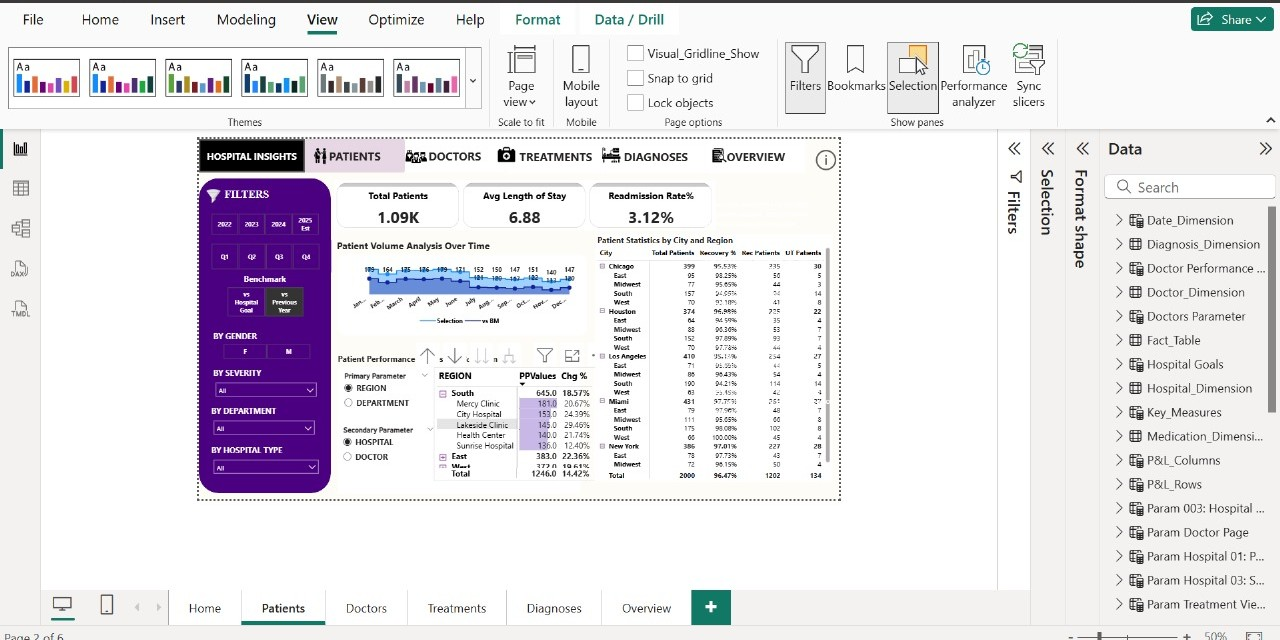

What the dashboard file says about the page in this screenshot:
{"tool":"powerbi","page":{"name":"Patients","canvas":[1280,720],"ordinal":1},"visuals":[{"type":"shape","box":[982,42,298,656.8],"z":0,"group":"g3"},{"type":"shape","box":[0,78.9,264,630],"z":0,"group":"g2"},{"type":"image","box":[10,94.9,38.3,40],"z":0,"group":"g1"},{"type":"shape","title":"Patient Performance by Hospital & Region","box":[277.2,428,484.2,280.7],"z":0},{"type":"actionButton","box":[1208.6,48.4,67.1,48.3],"z":1000,"group":"g3"},{"type":"group","id":"g1","title":"Group 2","box":[10,94.9,146,40],"z":1000,"group":"g2"},{"type":"textbox","title":"FILTERS","box":[46.7,98.2,110,31.7],"z":1000,"group":"g1"},{"type":"shape","title":"Patient Volume Analysis Over Time","box":[276.8,200.4,501,194.1],"z":1000},{"type":"actionButton","box":[0,0,212,66.7],"z":2000},{"type":"slicer","fields":{"Values":["Date_Dimension.Year_Desc"]},"box":[0,142.2,263.1,52.6],"z":2000,"group":"g2"},{"type":"actionButton","title":"Home","box":[212.3,0,200,66.7],"z":3000},{"type":"actionButton","title":"Home","box":[412.3,0,200,66.7],"z":4000},{"type":"actionButton","title":"Home","box":[613.2,0,200,67.9],"z":5000},{"type":"actionButton","title":"Home","box":[813.2,0,200,67.9],"z":6000},{"type":"actionButton","title":"Home","box":[1013.2,0,200,67.9],"z":7000},{"type":"actionButton","box":[1227.2,14.2,52.8,54.9],"z":8000},{"type":"image","box":[1013.2,12.7,54.1,39.8],"z":9000},{"type":"image","box":[400,7.5,69.8,52.8],"z":10000},{"type":"image","box":[583,7.5,62.3,45.3],"z":11000},{"type":"image","box":[792.5,7.5,66,47.2],"z":12000},{"type":"image","box":[211.6,11.1,62,42.9],"z":13000},{"type":"group","id":"g2","title":"Group 3","box":[0,78.9,264,630],"z":14000},{"type":"slicer","fields":{"Values":["Date_Dimension.Quarter"]},"box":[0,201.7,264.9,64.9],"z":16000},{"type":"slicer","title":"BY HOSPITAL TYPE","fields":{"Values":["hospital_dimension_2000.Type"]},"box":[20.7,609.2,229,73.2],"z":17000},{"type":"slicer","title":"BY GENDER","fields":{"Values":["Patient_Dimension.Gender"]},"box":[23.9,381.7,222.7,63.6],"z":18000},{"type":"slicer","title":"BY SEVERITY","fields":{"Values":["Diagnosis_dimension_2000.Severity"]},"box":[23.9,456.5,221.1,63.6],"z":19000},{"type":"slicer","title":"BY DEPARTMENT","fields":{"Values":["doctor_dimension_2000.Department"]},"box":[20.7,531.3,221.1,63.6],"z":20000},{"type":"cardVisual","fields":{"Data":["Key_Measures.Total Patients (BM)","Key_Measures.Avg Length of Stay (BM)","Key_Measures.Readmission Rate (BM)"]},"box":[270.4,81.1,763.5,100.2],"z":21000},{"type":"areaChart","title":"Hospital Revenue Over Time","fields":{"Category":["Date_Dimension.Date.Variation.Date Hierarchy.Month"],"Y":["Key_Measures.Total Patients","Key_Measures.Total Patients (BM)"]},"box":[287.9,241.8,472.4,140],"z":22000},{"type":"slicer","fields":{"Values":["Primary Parameter.Primary Parameter"]},"box":[277.2,459.6,193,103.5],"z":23000},{"type":"slicer","fields":{"Values":["Secondary Parameter.Secondary Parameter"]},"box":[276.5,568.4,206.1,104.8],"z":24000},{"type":"pivotTable","fields":{"Rows":["Hospital_Dimension.Region","Hospital_Dimension.Name"],"Values":["Key_Measures.Patient Performance Values","Key_Measures.Patient Performance Chg %"]},"box":[470.6,456.8,355.5,226.7],"z":25000},{"type":"slicer","title":"Benchmark","fields":{"Values":["Set_BM.Benchmark"]},"box":[31.8,267.2,200.4,92.3],"z":26000},{"type":"pivotTable","title":"Patient Statistics by City and Region","fields":{"Rows":["Patient_Dimension.City","Patient_Dimension.Region"],"Values":["CountNonNull(Fact_Table.Total Patients)","Key_Measures.Recovery Rate","Key_Measures.Recovered Patients","Key_Measures.Under Treatment Patients"]},"box":[792.1,189.3,475.6,494.7],"z":27000},{"type":"group","id":"g3","title":"Info_panel(patient)","box":[982,42,298,656.8],"z":28000},{"type":"textbox","box":[994.6,113.3,258.1,75.5],"z":29000},{"type":"textbox","box":[998.8,201.4,258.1,73.4],"z":30000},{"type":"textbox","box":[998.8,291.7,253.9,90.2],"z":31000},{"type":"textbox","box":[1000.9,394.5,262.3,75.5],"z":32000},{"type":"textbox","box":[1000.9,488.9,274.9,73.4],"z":33000}]}

Visuals, with their boxes on the page's 1280x720 design canvas (x1, y1, x2, y2). These are canvas units, not pixel positions in the 1280x640 screenshot, which may show the page scaled, cropped or inside an application window:
shape: BBox(982, 42, 1280, 699)
shape: BBox(0, 79, 264, 709)
image: BBox(10, 95, 48, 135)
"Patient Performance by Hospital & Region" shape: BBox(277, 428, 761, 709)
actionButton: BBox(1209, 48, 1276, 97)
"Group 2" group: BBox(10, 95, 156, 135)
"FILTERS" textbox: BBox(47, 98, 157, 130)
"Patient Volume Analysis Over Time" shape: BBox(277, 200, 778, 394)
actionButton: BBox(0, 0, 212, 67)
slicer - Date_Dimension.Year_Desc: BBox(0, 142, 263, 195)
"Home" actionButton: BBox(212, 0, 412, 67)
"Home" actionButton: BBox(412, 0, 612, 67)
"Home" actionButton: BBox(613, 0, 813, 68)
"Home" actionButton: BBox(813, 0, 1013, 68)
"Home" actionButton: BBox(1013, 0, 1213, 68)
actionButton: BBox(1227, 14, 1280, 69)
image: BBox(1013, 13, 1067, 52)
image: BBox(400, 8, 470, 60)
image: BBox(583, 8, 645, 53)
image: BBox(792, 8, 858, 55)
image: BBox(212, 11, 274, 54)
"Group 3" group: BBox(0, 79, 264, 709)
slicer - Date_Dimension.Quarter: BBox(0, 202, 265, 267)
"BY HOSPITAL TYPE" slicer: BBox(21, 609, 250, 682)
"BY GENDER" slicer: BBox(24, 382, 247, 445)
"BY SEVERITY" slicer: BBox(24, 456, 245, 520)
"BY DEPARTMENT" slicer: BBox(21, 531, 242, 595)
cardVisual - Key_Measures.Total Patients (BM) x Key_Measures.Avg Length of Stay (BM): BBox(270, 81, 1034, 181)
"Hospital Revenue Over Time" areaChart: BBox(288, 242, 760, 382)
slicer - Primary Parameter.Primary Parameter: BBox(277, 460, 470, 563)
slicer - Secondary Parameter.Secondary Parameter: BBox(276, 568, 483, 673)
pivotTable - Hospital_Dimension.Region x Hospital_Dimension.Name: BBox(471, 457, 826, 684)
"Benchmark" slicer: BBox(32, 267, 232, 360)
"Patient Statistics by City and Region" pivotTable: BBox(792, 189, 1268, 684)
"Info_panel(patient)" group: BBox(982, 42, 1280, 699)
textbox: BBox(995, 113, 1253, 189)
textbox: BBox(999, 201, 1257, 275)
textbox: BBox(999, 292, 1253, 382)
textbox: BBox(1001, 394, 1263, 470)
textbox: BBox(1001, 489, 1276, 562)
